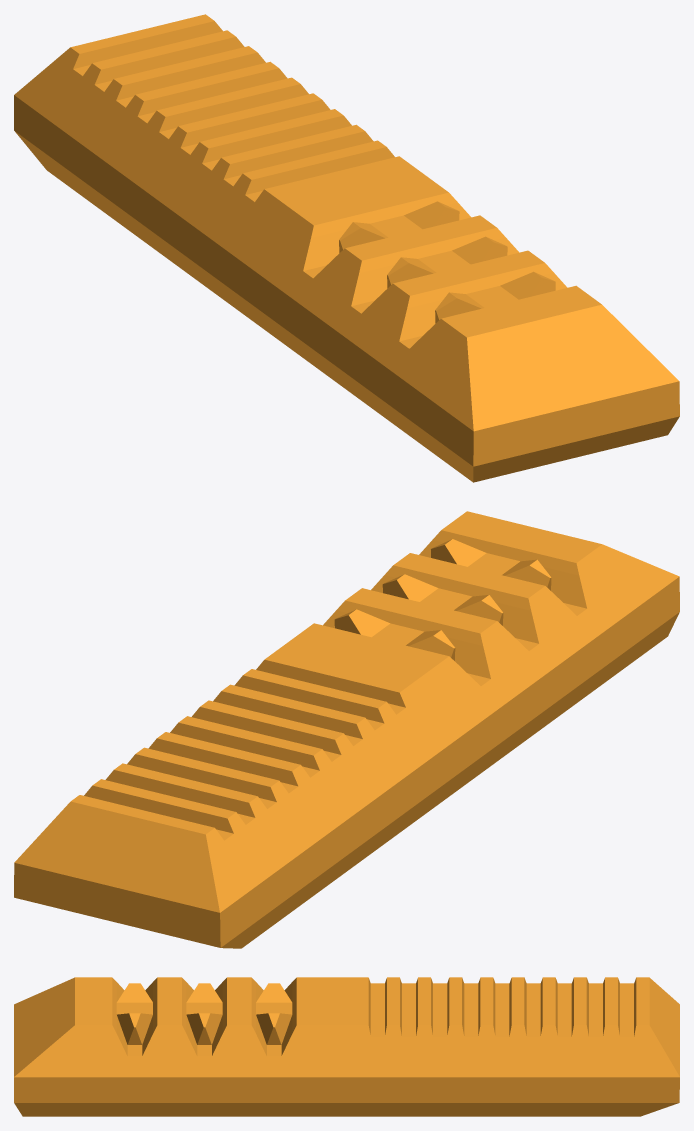
The model's file is part_sight_01.fbx.
3 renders of one model, top to bottom at view 1: azimuth 30°, elevation 25°; view 2: azimuth 150°, elevation 25°; view 3: azimuth 270°, elevation 25°, orthographic. The views are drawn at different scales.
Parts seen in each view (by area): view 1: part_sight_01; view 2: part_sight_01; view 3: part_sight_01.
Part boxes in pixels (x1=…): part_sight_01: x1=14, y1=14, x2=679, y2=482; part_sight_01: x1=14, y1=511, x2=679, y2=948; part_sight_01: x1=14, y1=977, x2=679, y2=1116.
Bounding box in the file's own units: 3.18 × 1.71 × 12.24.
